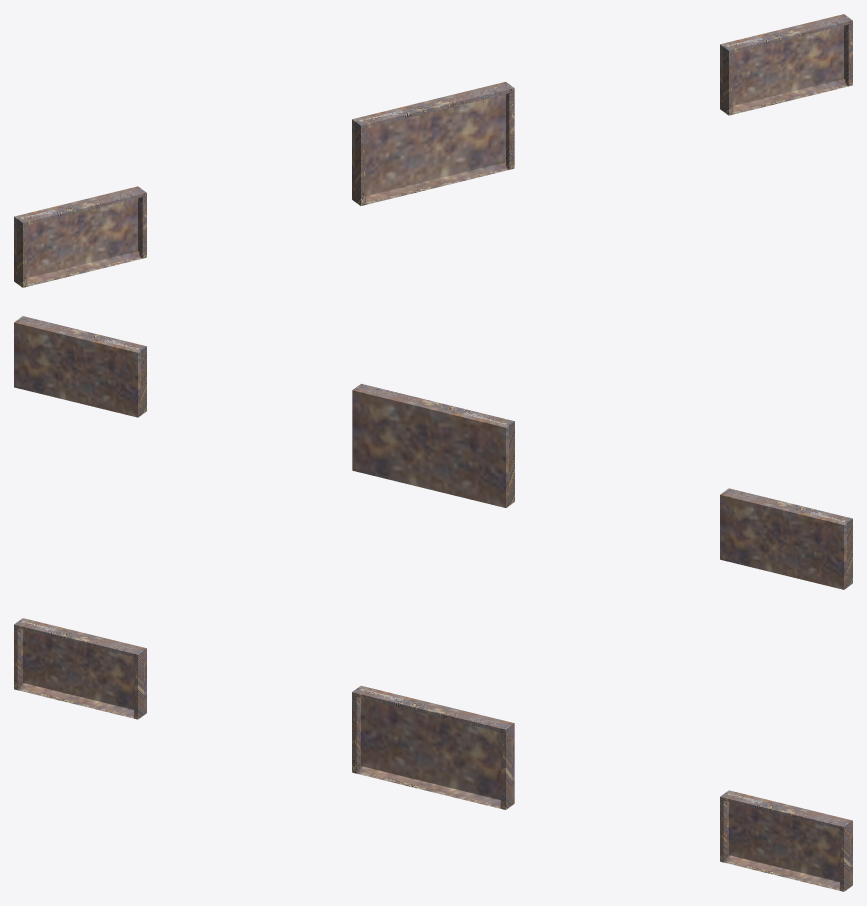
The model's file is Airport_All Doors.dae.
The picture shows the model from 3 angles, top to bottom: view 1: azimuth 30°, elevation 25°; view 2: azimuth 150°, elevation 25°; view 3: azimuth 330°, elevation 25°; orthographic projection.
Visible parts, largest first — view 1: Cube4-0, Cube4_copy6-0, Cube4_copy8-0; view 2: Cube4-0, Cube4_copy6-0, Cube4_copy8-0; view 3: Cube4-0, Cube4_copy6-0, Cube4_copy8-0.
Boxes of the visible parts, x1,y1,x2,y2 form: Cube4-0: (352,81,514,205); Cube4_copy6-0: (720,14,852,115); Cube4_copy8-0: (14,186,146,287); Cube4-0: (352,383,514,507); Cube4_copy6-0: (14,316,146,417); Cube4_copy8-0: (720,488,852,589); Cube4-0: (352,685,514,809); Cube4_copy6-0: (720,790,852,891); Cube4_copy8-0: (14,618,146,719).
Bounding box in the file's own units: 26.92 × 2.49 × 0.5.
